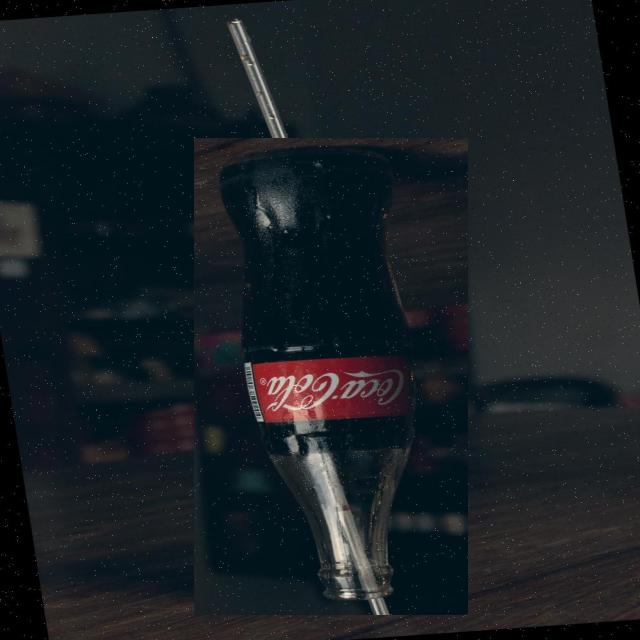coca-cola: (194, 138, 468, 615)
